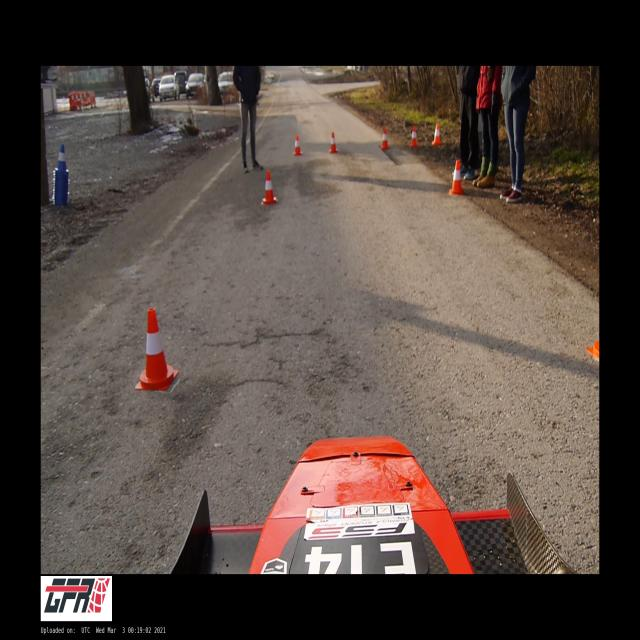blue_cone: (54, 144, 68, 173)
orange_cone: (135, 308, 178, 389), (262, 171, 277, 205), (450, 160, 464, 195), (432, 124, 442, 144), (329, 132, 338, 153), (293, 135, 302, 155), (381, 128, 389, 149), (410, 126, 418, 147)
